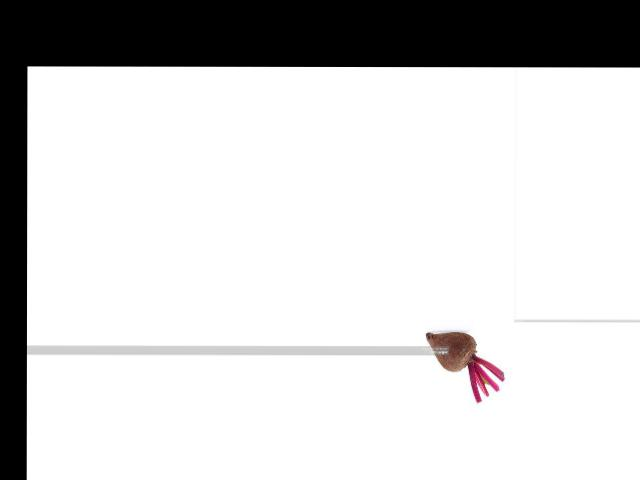beet: (425, 331, 504, 402)
